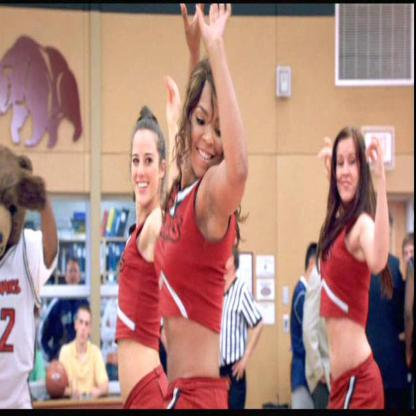face: (192, 87, 224, 177), (132, 134, 161, 205), (337, 143, 360, 202), (79, 314, 91, 343), (68, 265, 80, 289), (405, 248, 415, 270)
